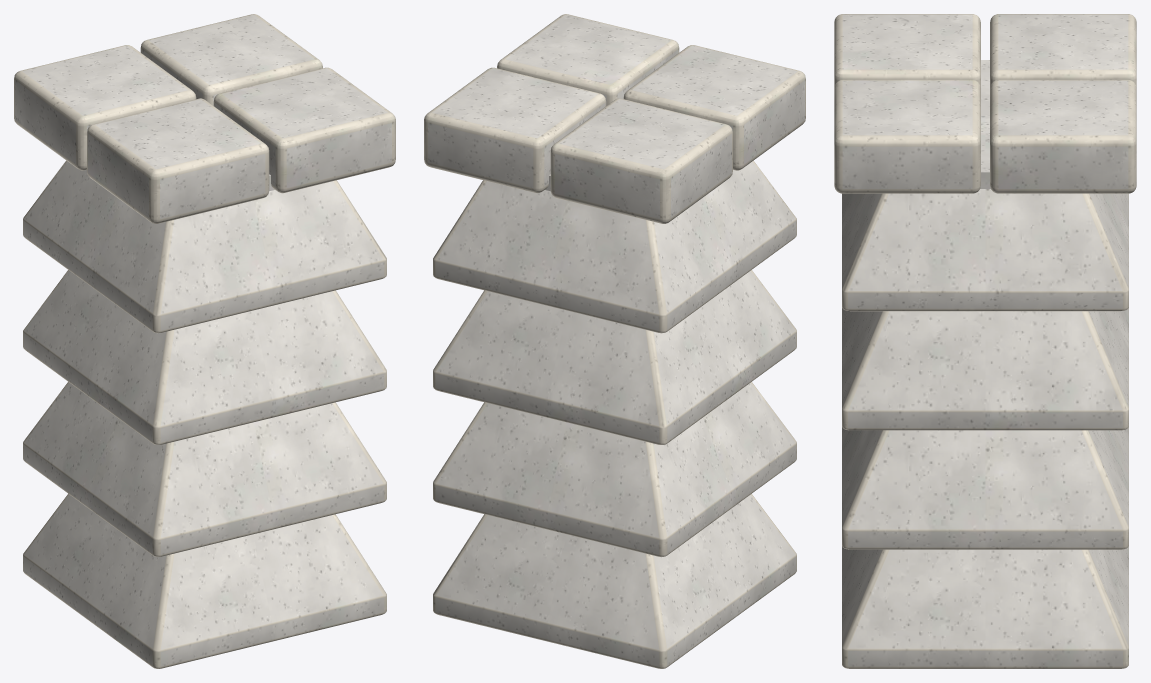
Rendered from vez_bila.glb.
3 views of the same model, side by side, from view 1: azimuth 30°, elevation 25°; view 2: azimuth 150°, elevation 25°; view 3: azimuth 270°, elevation 25° (orthographic). The views are drawn at different scales.
Parts seen in each view (by area): view 1: rook_white; view 2: rook_white; view 3: rook_white.
Part boxes in pixels (x1=…): rook_white: x1=14, y1=14, x2=395, y2=668; rook_white: x1=424, y1=14, x2=805, y2=668; rook_white: x1=834, y1=14, x2=1136, y2=668.
Size of the model in its own units: 0.032 by 0.0624 by 0.032.
Materials: 2 (2 with a texture image).
